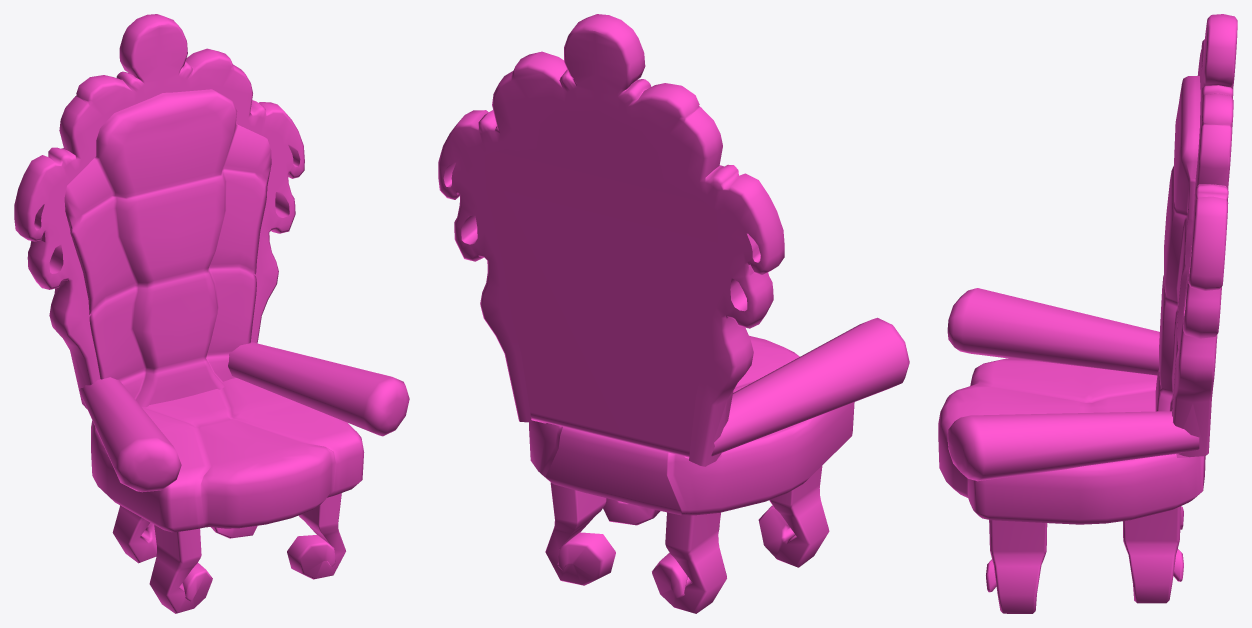
The model's file is ENV_HAU_CHAIR_MODEL (2).fbx.
The picture shows the model from 3 angles, left to right: view 1: azimuth 30°, elevation 25°; view 2: azimuth 150°, elevation 25°; view 3: azimuth 270°, elevation 25°; orthographic projection. The views are drawn at different scales.
Visible parts, largest first — view 1: ENV_HAU_CHAIR_MODEL; view 2: ENV_HAU_CHAIR_MODEL; view 3: ENV_HAU_CHAIR_MODEL.
Part boxes in pixels (box(x1,y1,x2,y2)): ENV_HAU_CHAIR_MODEL: box(14, 14, 409, 613); ENV_HAU_CHAIR_MODEL: box(438, 14, 909, 613); ENV_HAU_CHAIR_MODEL: box(938, 14, 1237, 613).
Bounding box in the file's own units: 80.89 × 133 × 65.21.
